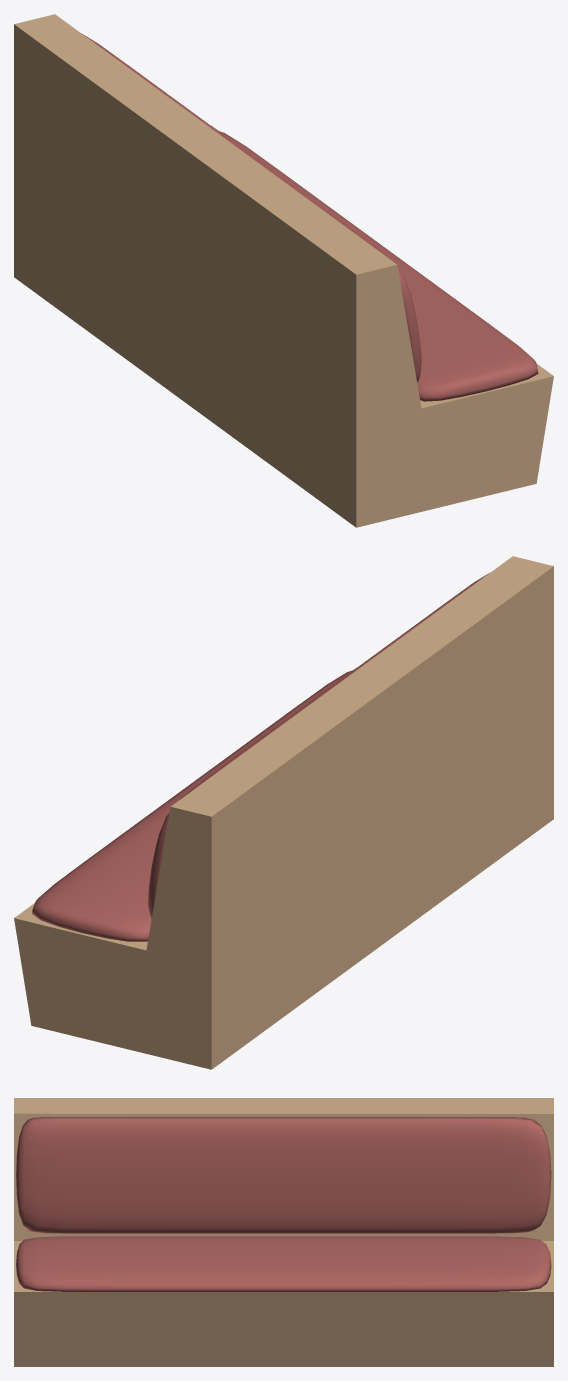
The model's file is chair_big.fbx.
3 views of the same model, one above another, from view 1: azimuth 30°, elevation 25°; view 2: azimuth 150°, elevation 25°; view 3: azimuth 270°, elevation 25° (orthographic). The views are drawn at different scales.
Visible parts, largest first — view 1: Cube.146; view 2: Cube.146; view 3: Cube.146.
Boxes of the visible parts, x1,y1,x2,y2 form: Cube.146: [14, 14, 553, 527]; Cube.146: [14, 556, 553, 1069]; Cube.146: [14, 1098, 553, 1366].
Bounding box in the file's own units: 100 × 300 × 122.
